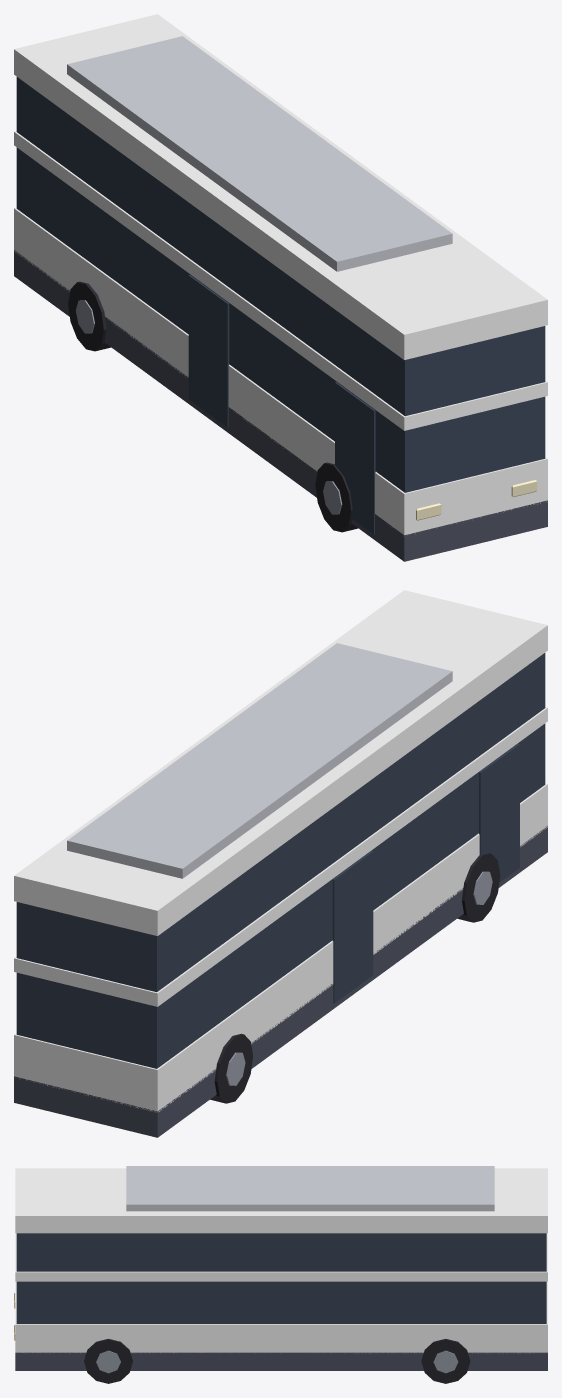
File: vehicle.bus-double.glb
3 views of the same model, one above another, from view 1: azimuth 30°, elevation 25°; view 2: azimuth 150°, elevation 25°; view 3: azimuth 270°, elevation 25° (orthographic). The views are drawn at different scales.
Parts seen in each view (by area): view 1: near, far; view 2: far, near; view 3: near, far.
Part boxes in pixels (left/top/right/bottom): near: left=14, top=18, right=547, bottom=555; far: left=14, top=14, right=547, bottom=561; far: left=14, top=590, right=547, bottom=1137; near: left=14, top=594, right=547, bottom=1131; near: left=14, top=1167, right=547, bottom=1383; far: left=15, top=1166, right=547, bottom=1370.
Bounding box in the file's own units: 2.69 × 4.32 × 12.03.
